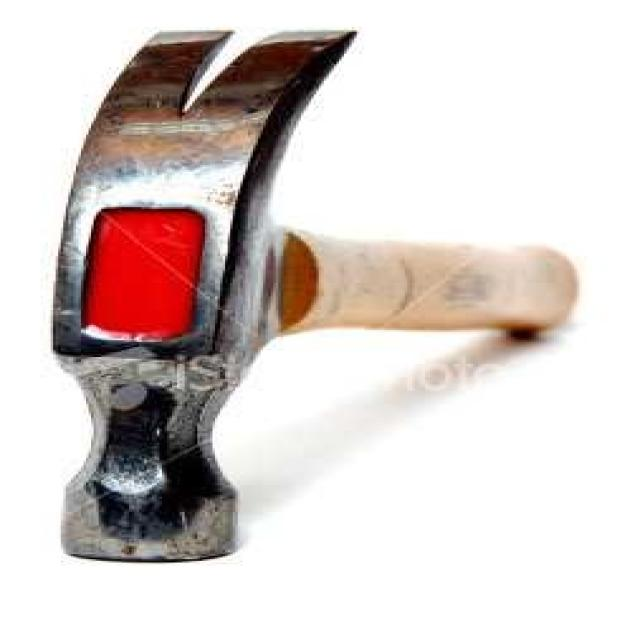hammer: (51, 29, 578, 562)
